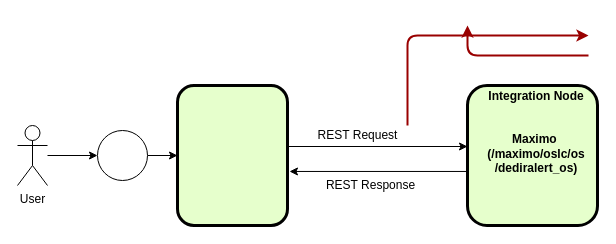
Image size: 616x244. Some labels were removed from this diagram. Here are the shapes that lost their labels. From the top down, the centre of each, then its label:
pixel 122 155: Browser
pixel 232 155: UI Node ADAT App (/adat)
